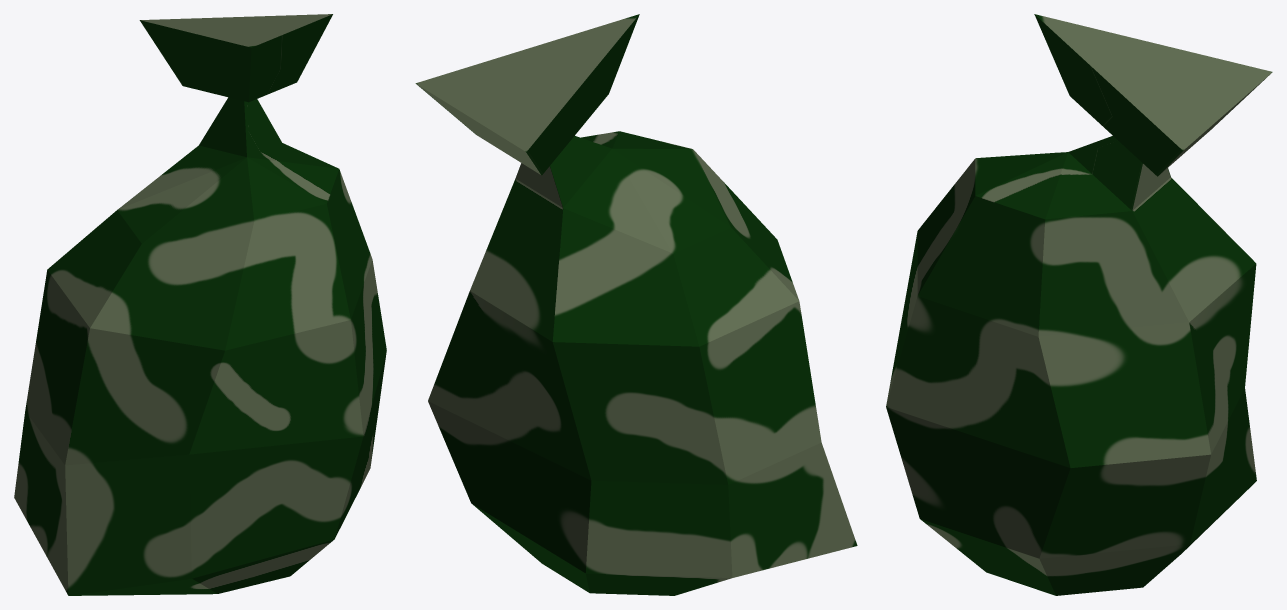
Rendered from SacoLixoFechado.glb.
The picture shows the model from 3 angles, left to right: view 1: azimuth 30°, elevation 25°; view 2: azimuth 150°, elevation 25°; view 3: azimuth 270°, elevation 25°; orthographic projection. The views are drawn at different scales.
Parts seen in each view (by area): view 1: Sphere; view 2: Sphere; view 3: Sphere.
Boxes of the visible parts, left/top/right/bottom form: Sphere: left=14, top=14, right=386, bottom=595; Sphere: left=415, top=14, right=857, bottom=595; Sphere: left=886, top=14, right=1272, bottom=595.
Bounding box in the file's own units: 2.1 × 2.95 × 1.88.
1 material, 1 textured.
